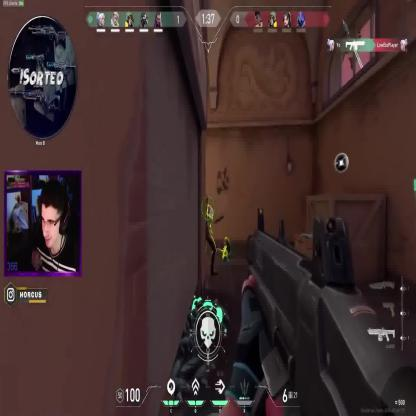enemy: (201, 195, 219, 276)
enemy_head: (203, 195, 209, 209)
